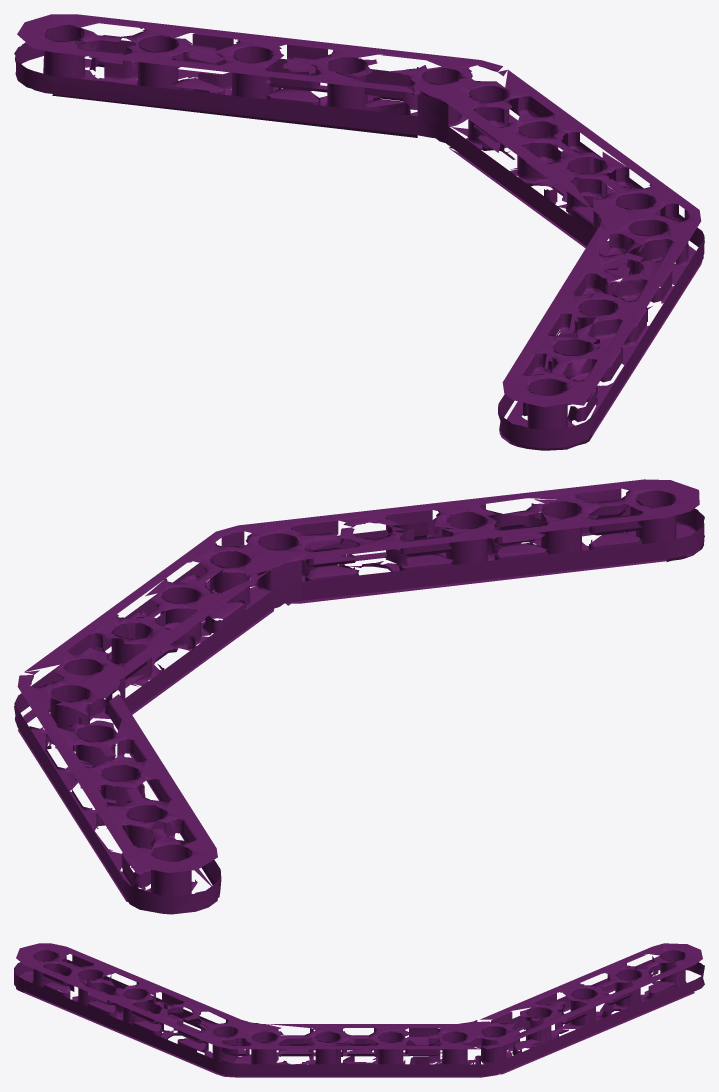
The picture shows the model from 3 angles, top to bottom: view 1: azimuth 30°, elevation 25°; view 2: azimuth 150°, elevation 25°; view 3: azimuth 270°, elevation 25°; orthographic projection. The views are drawn at different scales.
Visible parts, largest first — view 1: structure-0-4-96000; view 2: structure-0-4-96000; view 3: structure-0-4-96000.
Boxes of the visible parts, x1,y1,x2,y2 form: structure-0-4-96000: (14,14,704,450); structure-0-4-96000: (14,479,704,914); structure-0-4-96000: (14,943,704,1077).
Size of the model in its own units: 0.051 by 0.00623 by 0.1383.
